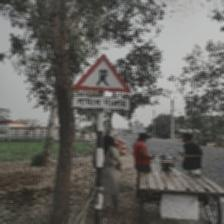Market-in-front: (71, 54, 136, 111)
